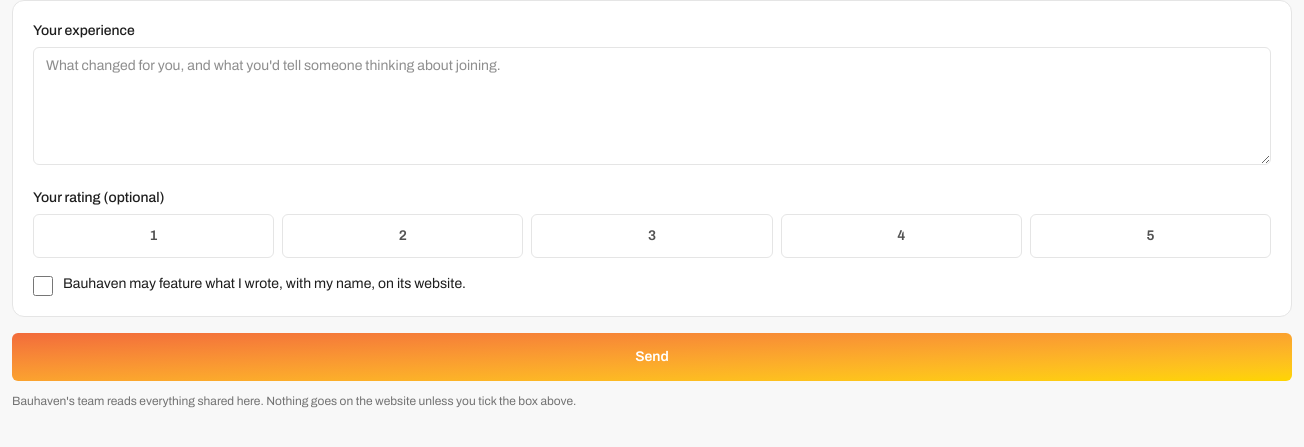
Scenario: TestimonyForm › refuses something too short to act on
The width and height of the screenshot is (1304, 447).
Step 1. Type "Good" into the text box labelled "Your experience" → [652, 106], box [33,47,1271,165]
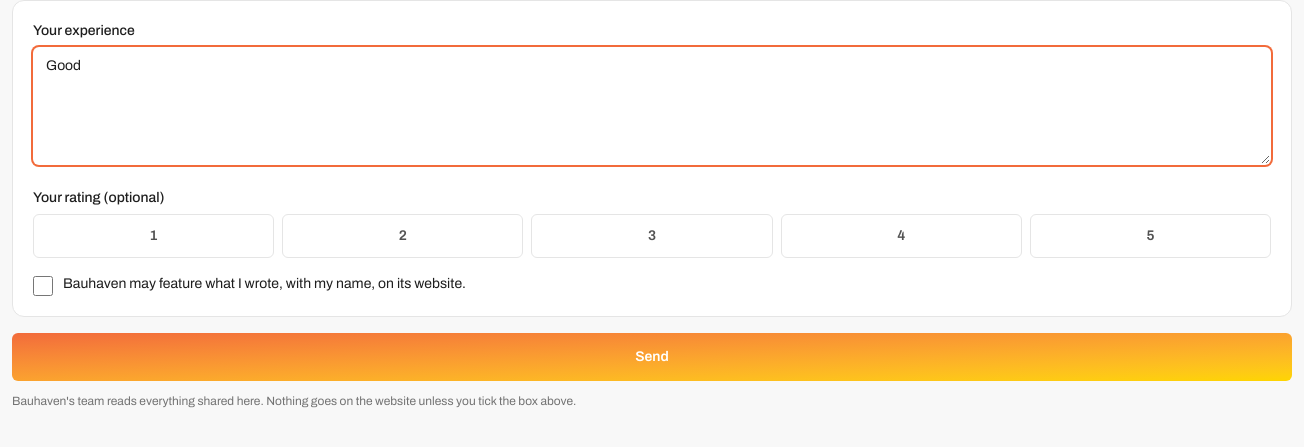
Step 2. Click the button "Send" → [652, 357], box [12,333,1292,381]
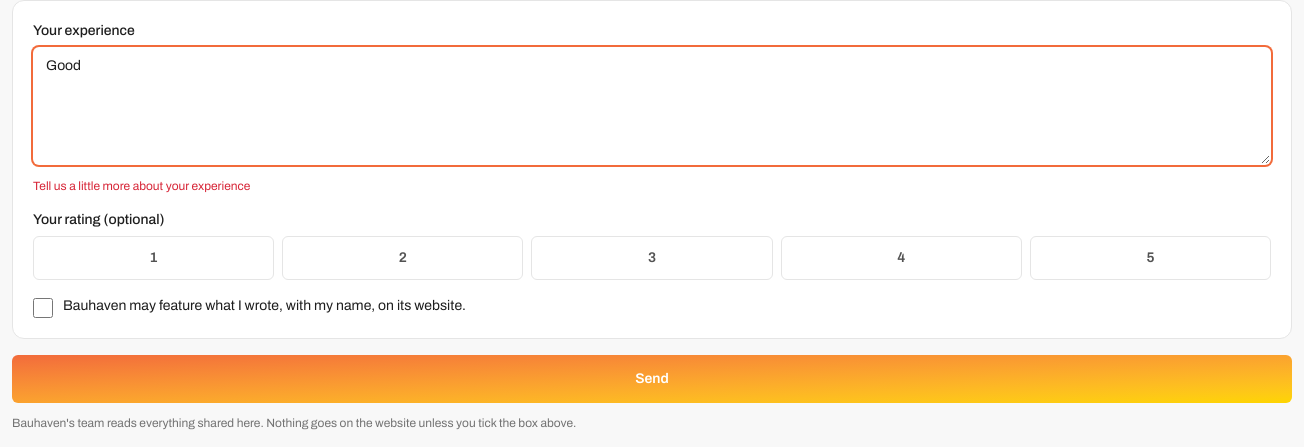
Now the text "Tell us a little more about your experience" is shown, box [33,179,250,193]
